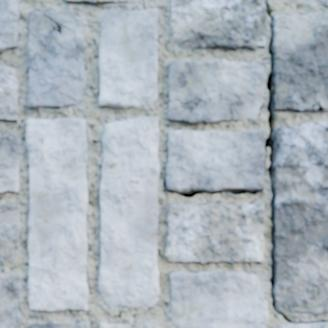brick: (27, 119, 87, 310), (99, 117, 158, 306), (273, 124, 327, 314), (168, 60, 265, 124), (165, 203, 264, 262), (166, 131, 264, 190), (99, 9, 157, 107), (27, 11, 85, 108), (170, 271, 267, 327), (273, 14, 327, 111), (170, 0, 266, 49), (0, 203, 20, 259), (0, 274, 21, 327), (0, 134, 18, 192), (0, 0, 18, 51), (0, 67, 17, 120), (101, 322, 153, 327), (32, 323, 88, 327), (66, 0, 137, 3), (279, 323, 327, 327), (316, 0, 327, 6)
crack: (264, 2, 327, 325), (163, 178, 258, 198), (298, 149, 327, 177), (43, 12, 76, 36), (311, 100, 325, 111), (315, 122, 327, 132)
